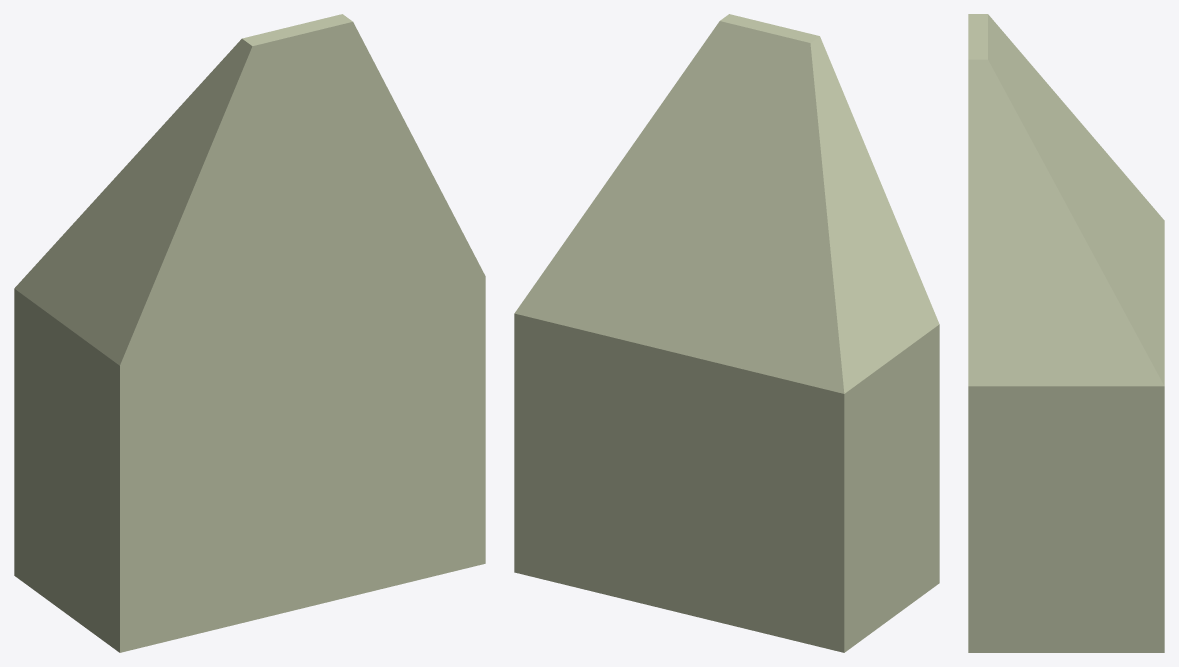
File: rotanev_rcs_block_srf_1_collider.obj
3 views of the same model, side by side, from view 1: azimuth 30°, elevation 25°; view 2: azimuth 150°, elevation 25°; view 3: azimuth 270°, elevation 25° (orthographic). The views are drawn at different scales.
Visible parts, largest first — view 1: rotanev_rcs_block_srf_1_collider; view 2: rotanev_rcs_block_srf_1_collider; view 3: rotanev_rcs_block_srf_1_collider.
Part boxes in pixels (<box>): rotanev_rcs_block_srf_1_collider: <box>14,14,485,652</box>; rotanev_rcs_block_srf_1_collider: <box>514,14,939,652</box>; rotanev_rcs_block_srf_1_collider: <box>968,14,1164,652</box>.
Bounding box in the file's own units: 1 × 1.5 × 0.5.
